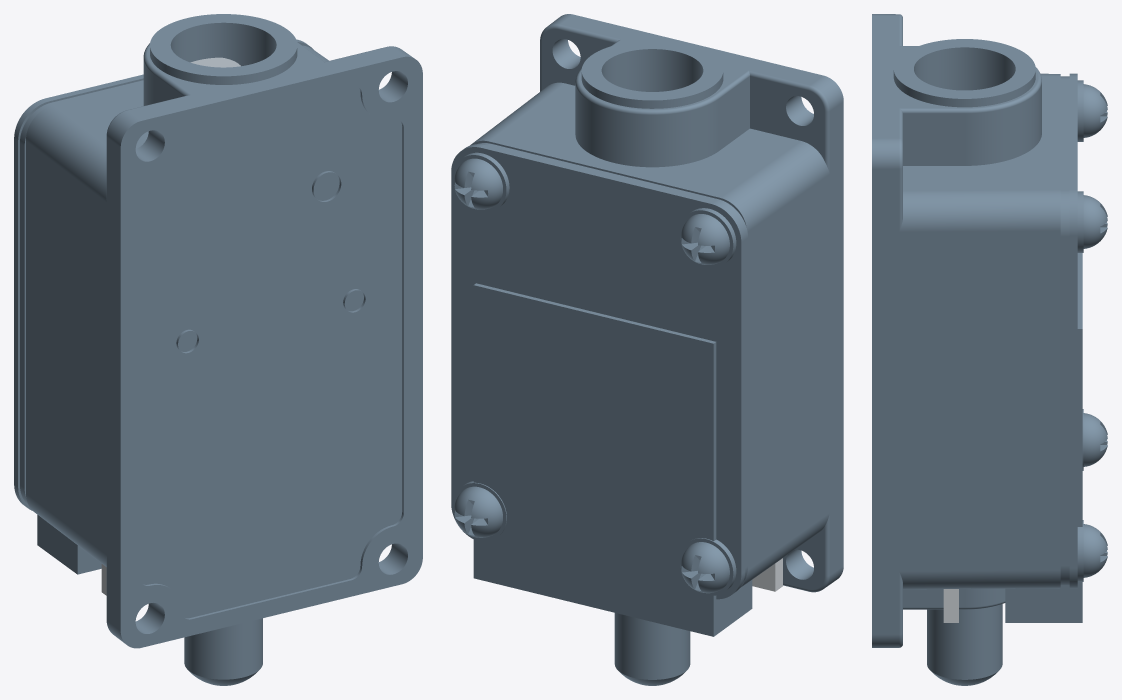
The picture shows the model from 3 angles, left to right: view 1: azimuth 30°, elevation 25°; view 2: azimuth 150°, elevation 25°; view 3: azimuth 270°, elevation 25°; orthographic projection. The views are drawn at different scales.
Visible parts, largest first — view 1: factory_001, housing_000; view 2: factory_001, housing_000, housing_001; view 3: factory_001, housing_000, housing_001.
Boxes of the visible parts, x1,y1,x2,y2 form: factory_001: (14,14,422,685); housing_000: (37,515,101,574); factory_001: (451,14,843,685); housing_000: (473,283,752,636); housing_001: (752,558,782,591); factory_001: (872,14,1107,685); housing_000: (1005,253,1082,622); housing_001: (943,589,958,622).
Bounding box in the file's own units: 0.0435 × 0.0875 × 0.0305.
